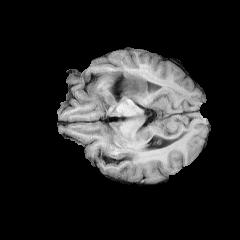glioma: (104, 70, 149, 102)
